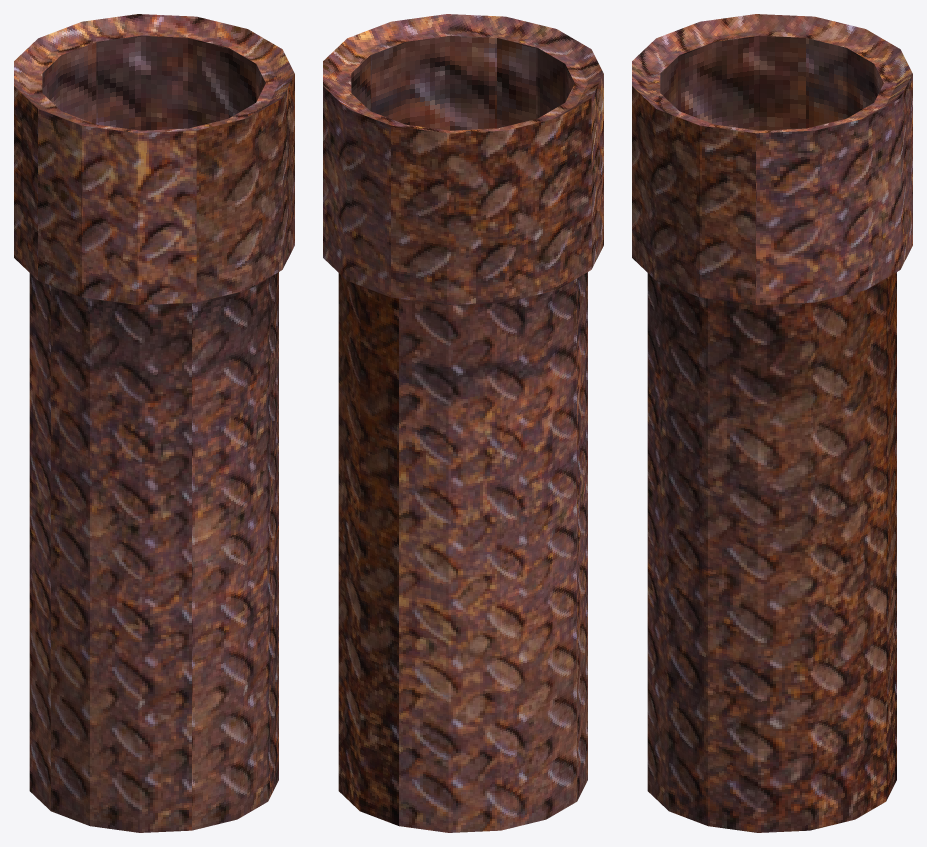
Rendered from Tubo.glb.
3 renders of one model, left to right at view 1: azimuth 30°, elevation 25°; view 2: azimuth 150°, elevation 25°; view 3: azimuth 270°, elevation 25°, orthographic.
Visible parts, largest first — view 1: Cylinder; view 2: Cylinder; view 3: Cylinder.
Part boxes in pixels (bbox=[...]): Cylinder: bbox=[14, 14, 294, 832]; Cylinder: bbox=[323, 14, 603, 832]; Cylinder: bbox=[632, 14, 912, 832].
Size of the model in its own units: 0.9404 by 2.6 by 0.9353.
Materials: 1 (1 with a texture image).
